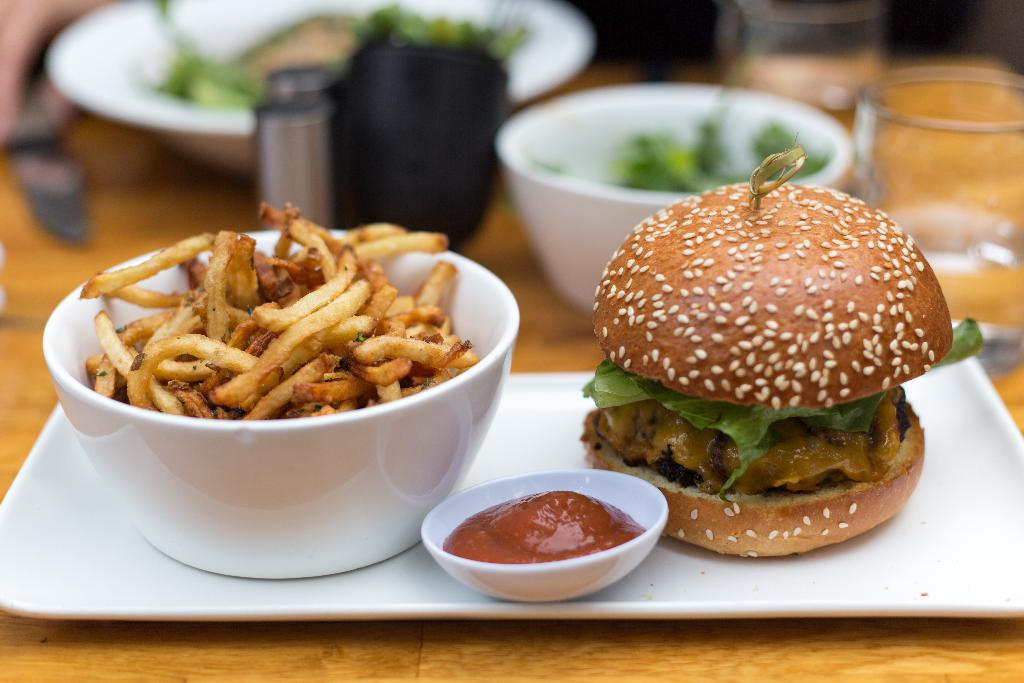French fries: (56, 212, 458, 460)
